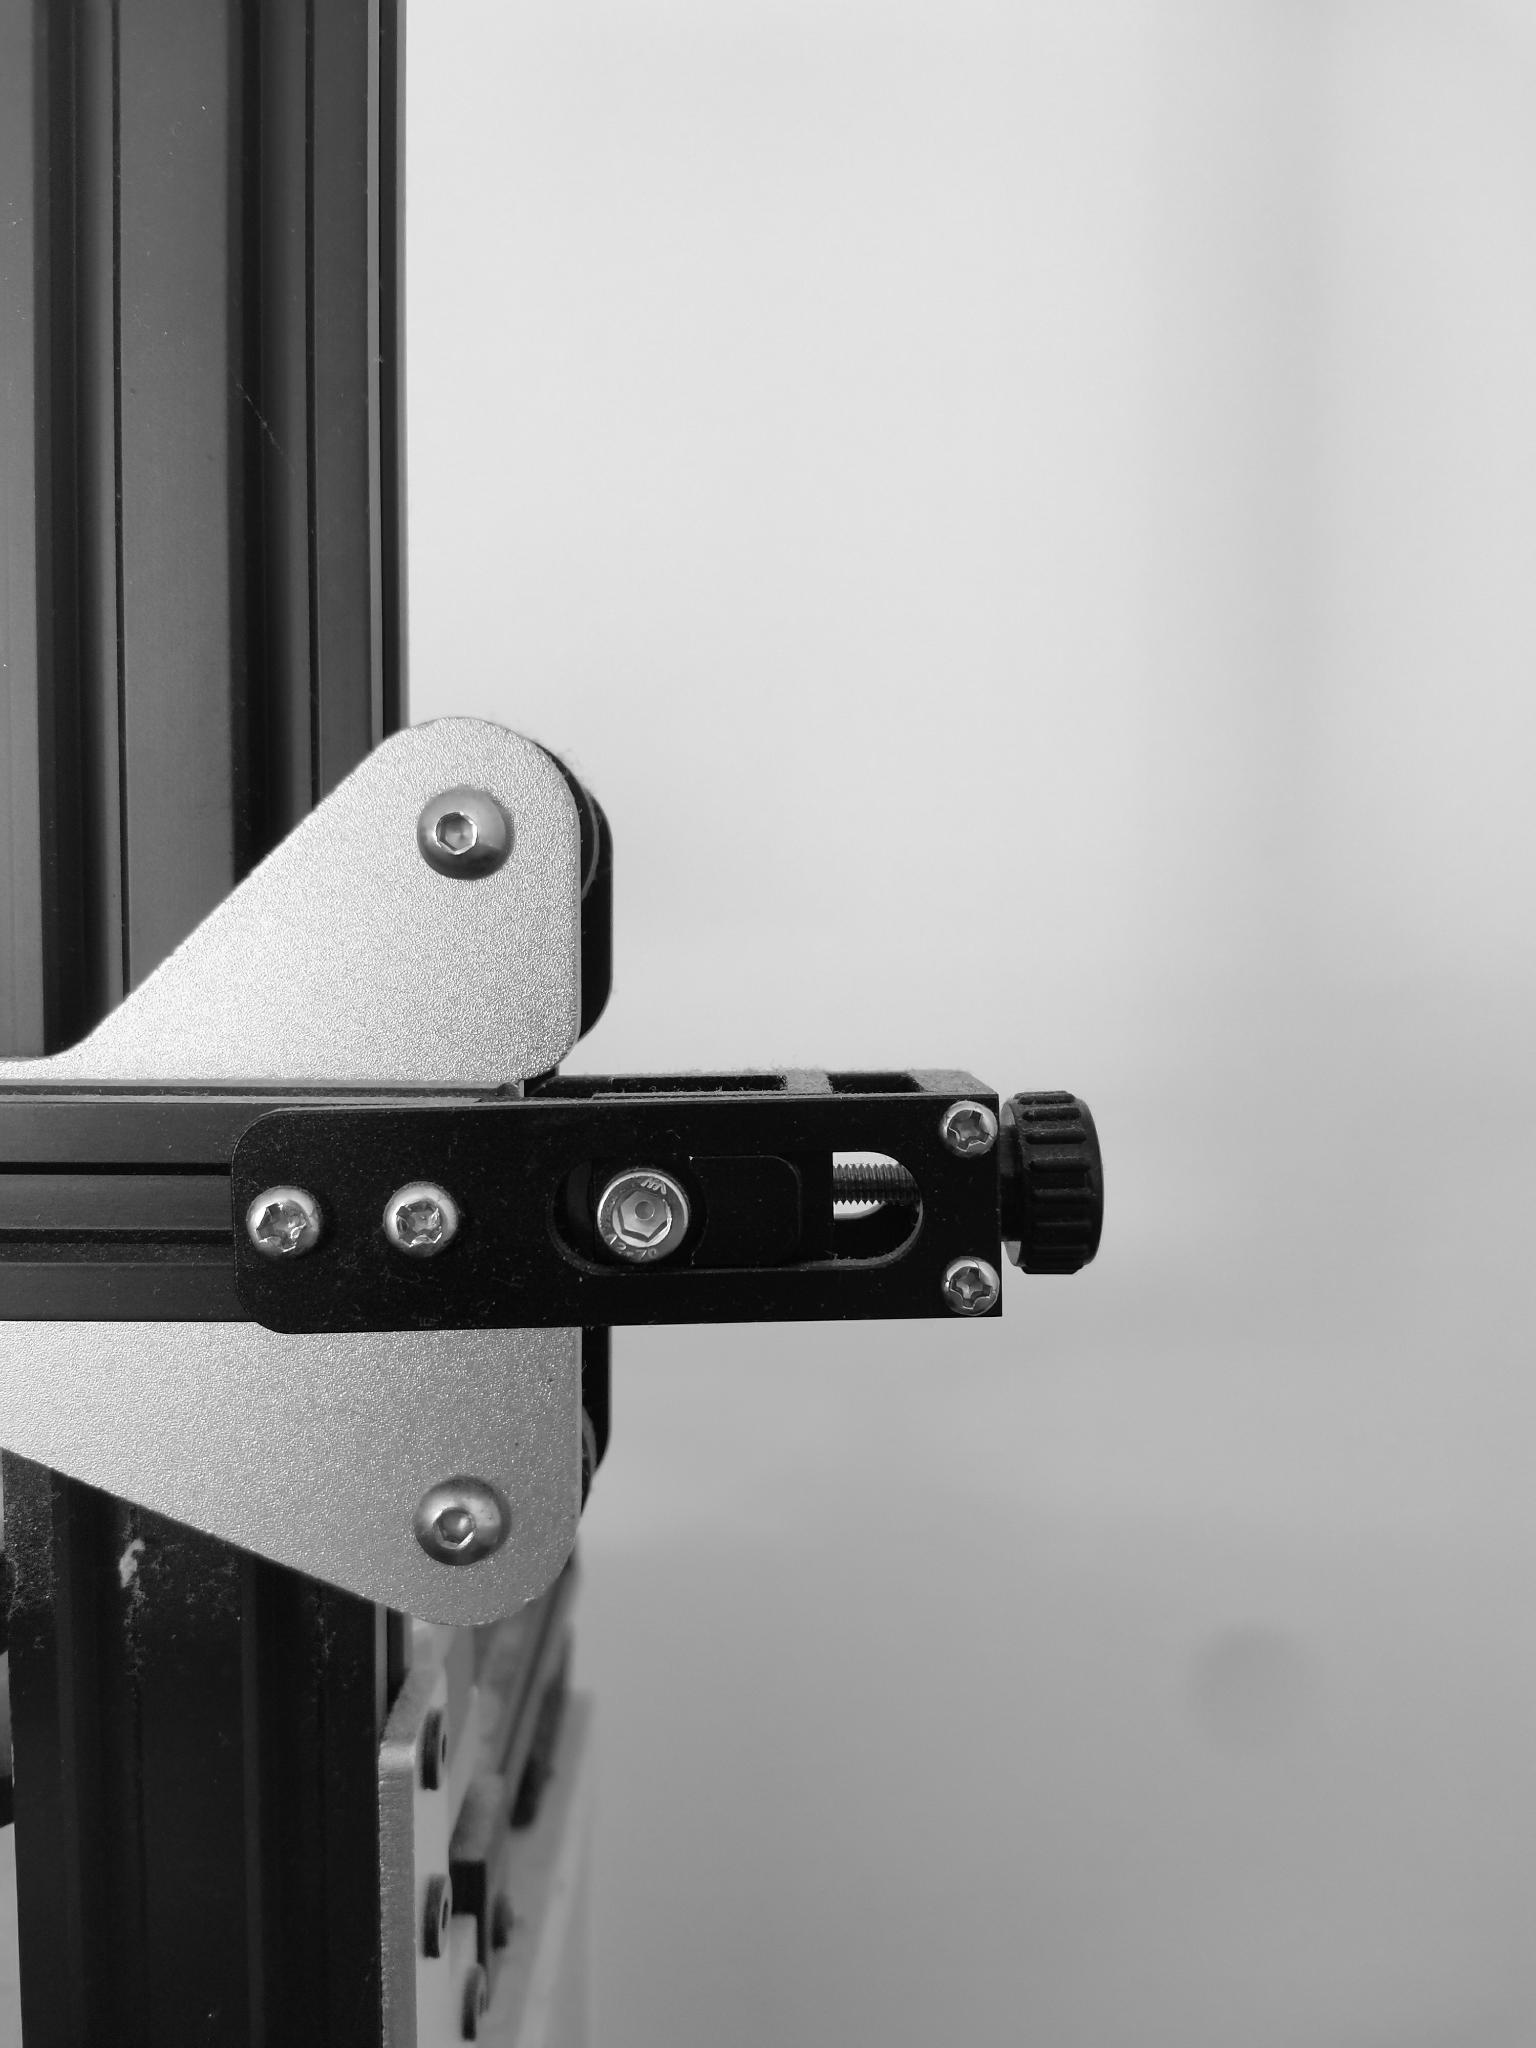allen: (405, 785, 515, 884), (587, 1168, 689, 1271), (405, 1477, 508, 1572)
philips-PZ: (374, 1179, 460, 1266), (236, 1185, 329, 1264), (937, 1093, 1002, 1163), (937, 1255, 1005, 1317)
